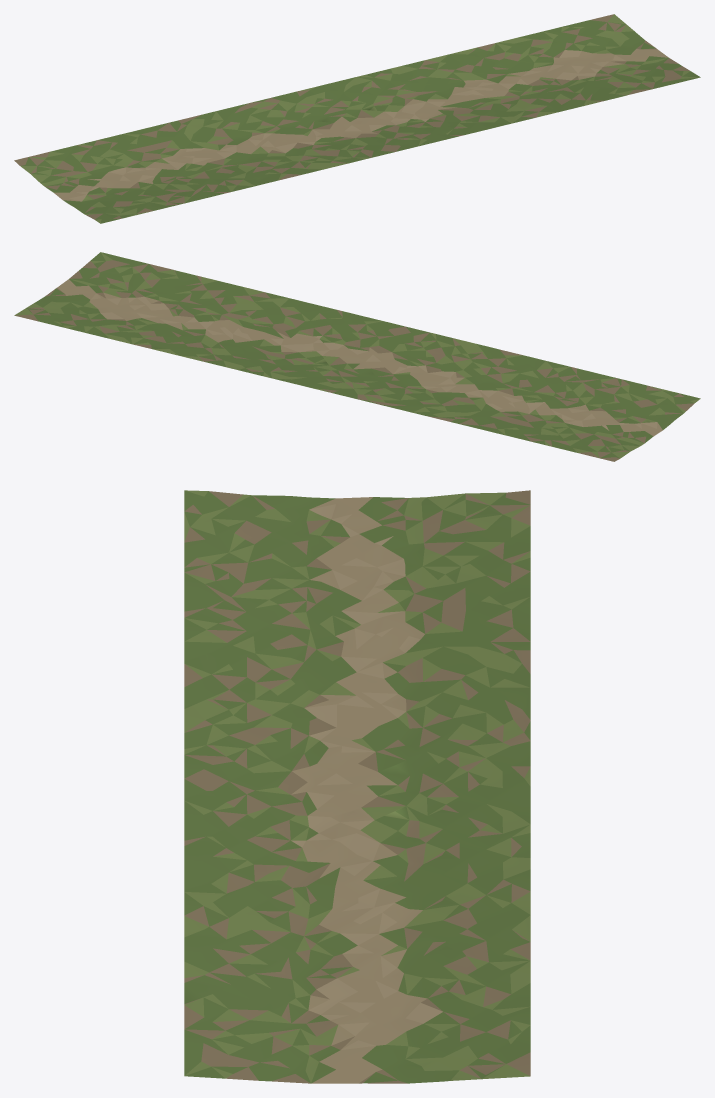
Rendered from F3D_ForestFloor.fbx.
3 renders of one model, top to bottom at view 1: azimuth 30°, elevation 25°; view 2: azimuth 150°, elevation 25°; view 3: azimuth 270°, elevation 25°, orthographic. The views are drawn at different scales.
Parts seen in each view (by area): view 1: F3D_ForestFloor; view 2: F3D_ForestFloor; view 3: F3D_ForestFloor.
Part boxes in pixels (left/top/right/bottom): F3D_ForestFloor: left=14, top=14, right=700, bottom=223; F3D_ForestFloor: left=14, top=252, right=700, bottom=461; F3D_ForestFloor: left=184, top=490, right=530, bottom=1083.
Size of the model in its own units: 192 by 1.25 by 48.
